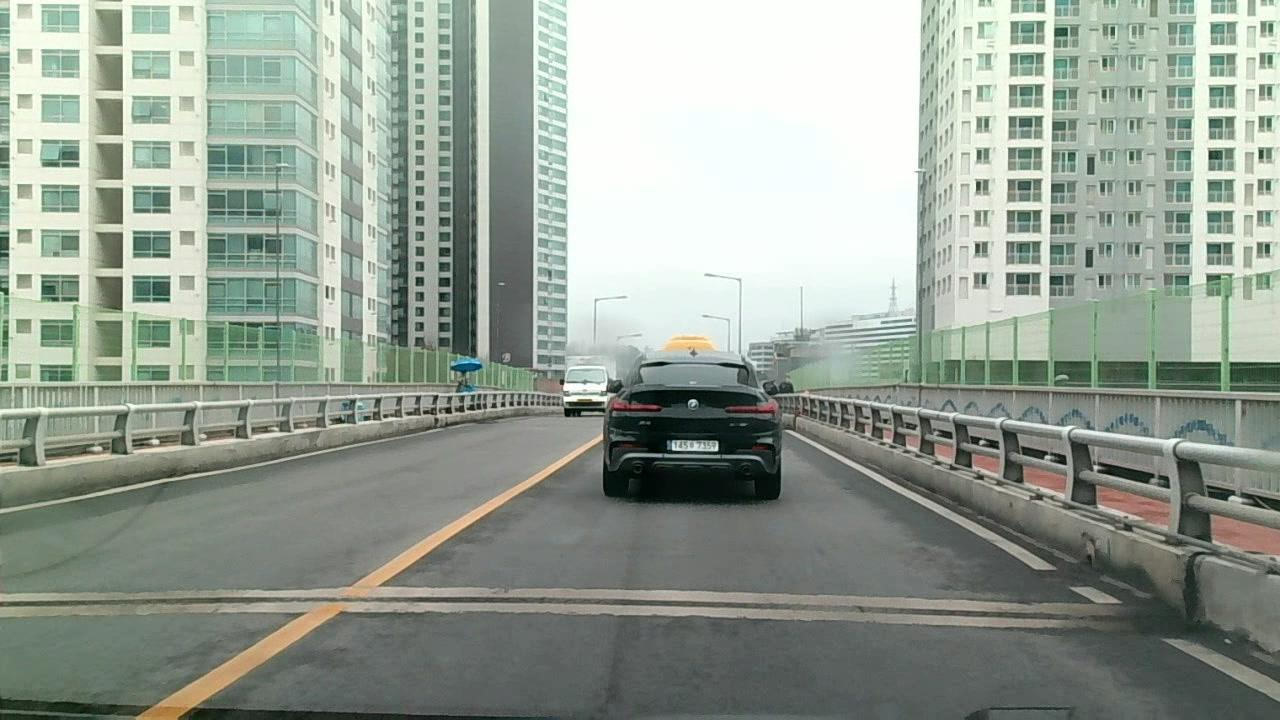banner: (6, 593, 1140, 622)
